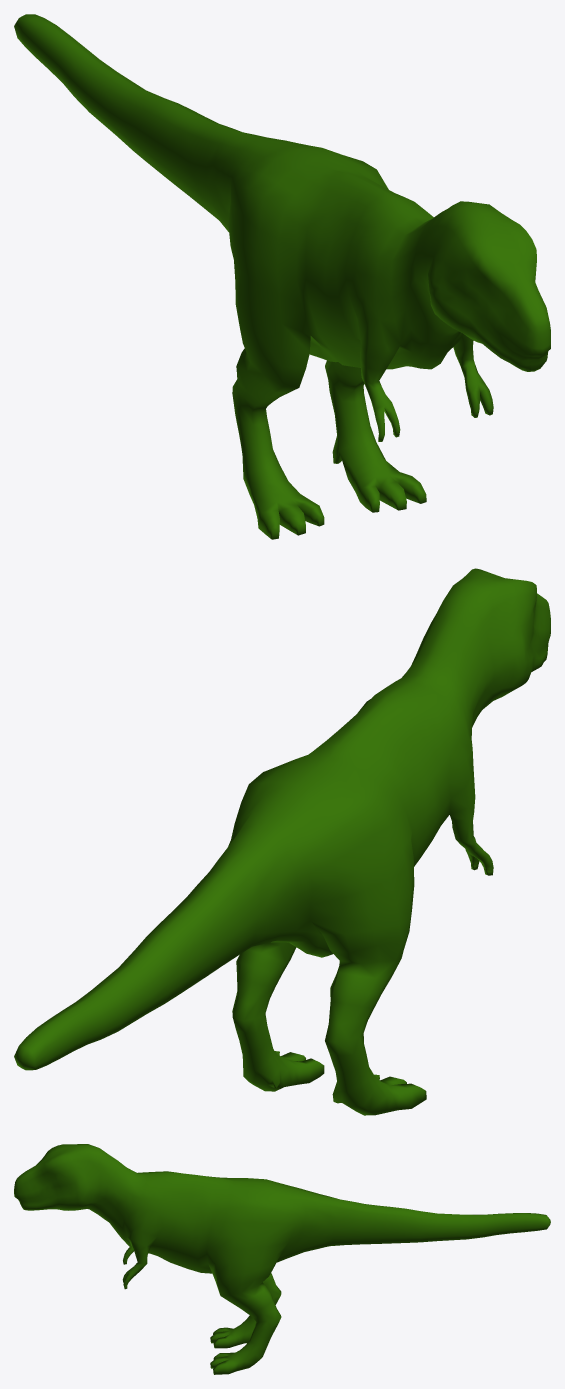
Rendered from T_rex_final.fbx.
3 renders of one model, top to bottom at view 1: azimuth 30°, elevation 25°; view 2: azimuth 150°, elevation 25°; view 3: azimuth 270°, elevation 25°, orthographic. The views are drawn at different scales.
Visible parts, largest first — view 1: tRex; view 2: tRex; view 3: tRex.
Boxes of the visible parts, x1,y1,x2,y2 form: tRex: [14, 14, 550, 539]; tRex: [14, 568, 550, 1115]; tRex: [14, 1144, 550, 1374].
Bounding box in the file's own units: 0.0582 × 0.1407 × 0.3274.
